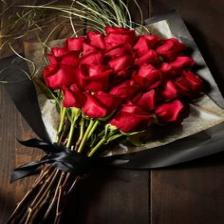red: (44, 26, 204, 133)
